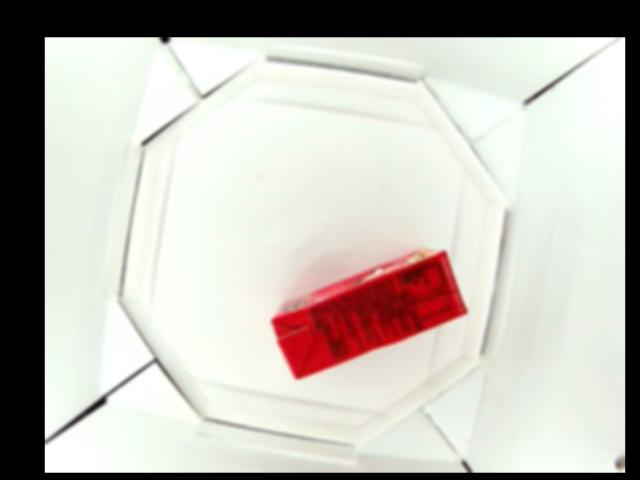Bottle: (267, 246, 465, 378)
